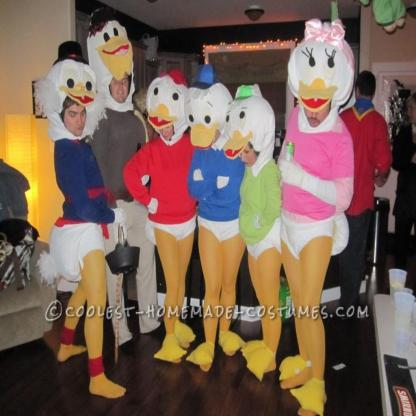face: (304, 86, 331, 127), (64, 105, 87, 136), (111, 71, 130, 103), (240, 140, 258, 168), (158, 117, 176, 141), (407, 100, 416, 124)
